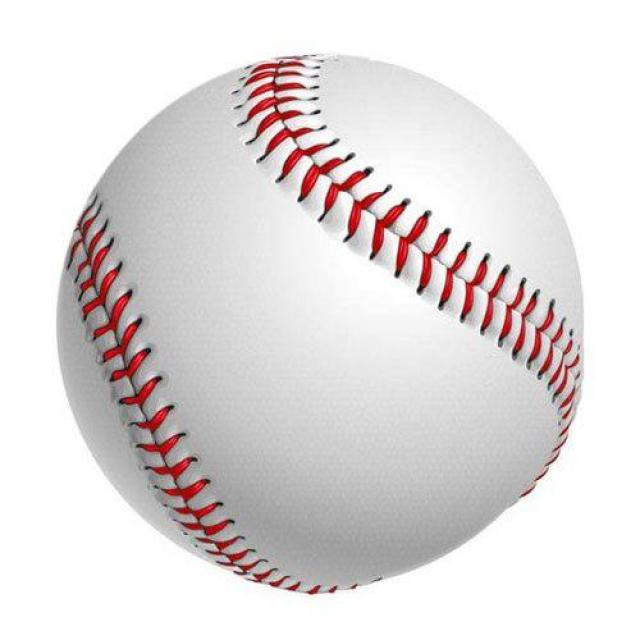baseball: (49, 54, 587, 598)
